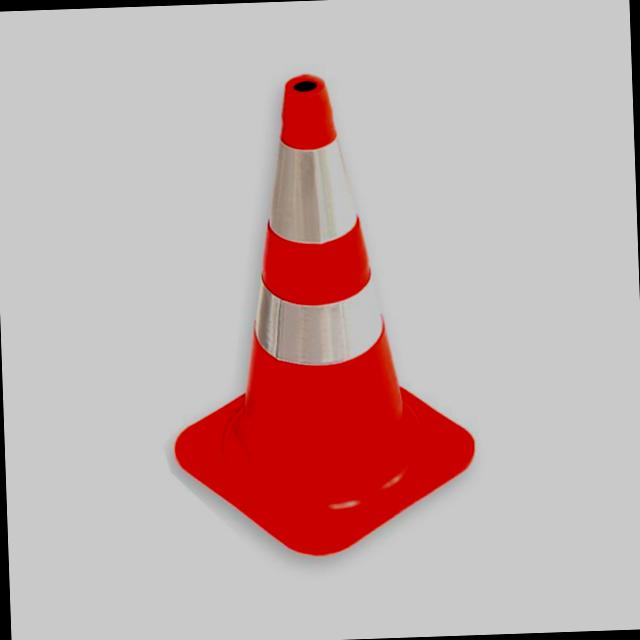cone: (153, 69, 492, 558)
